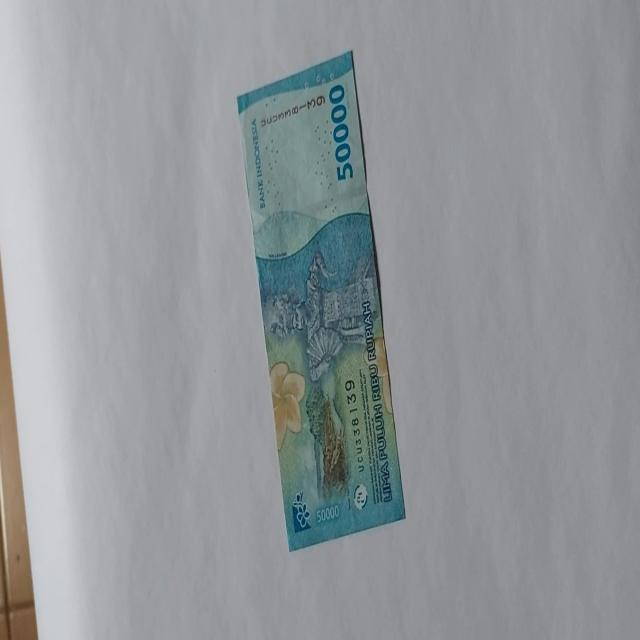lima puluh ribu rupiah: (234, 48, 406, 552)
